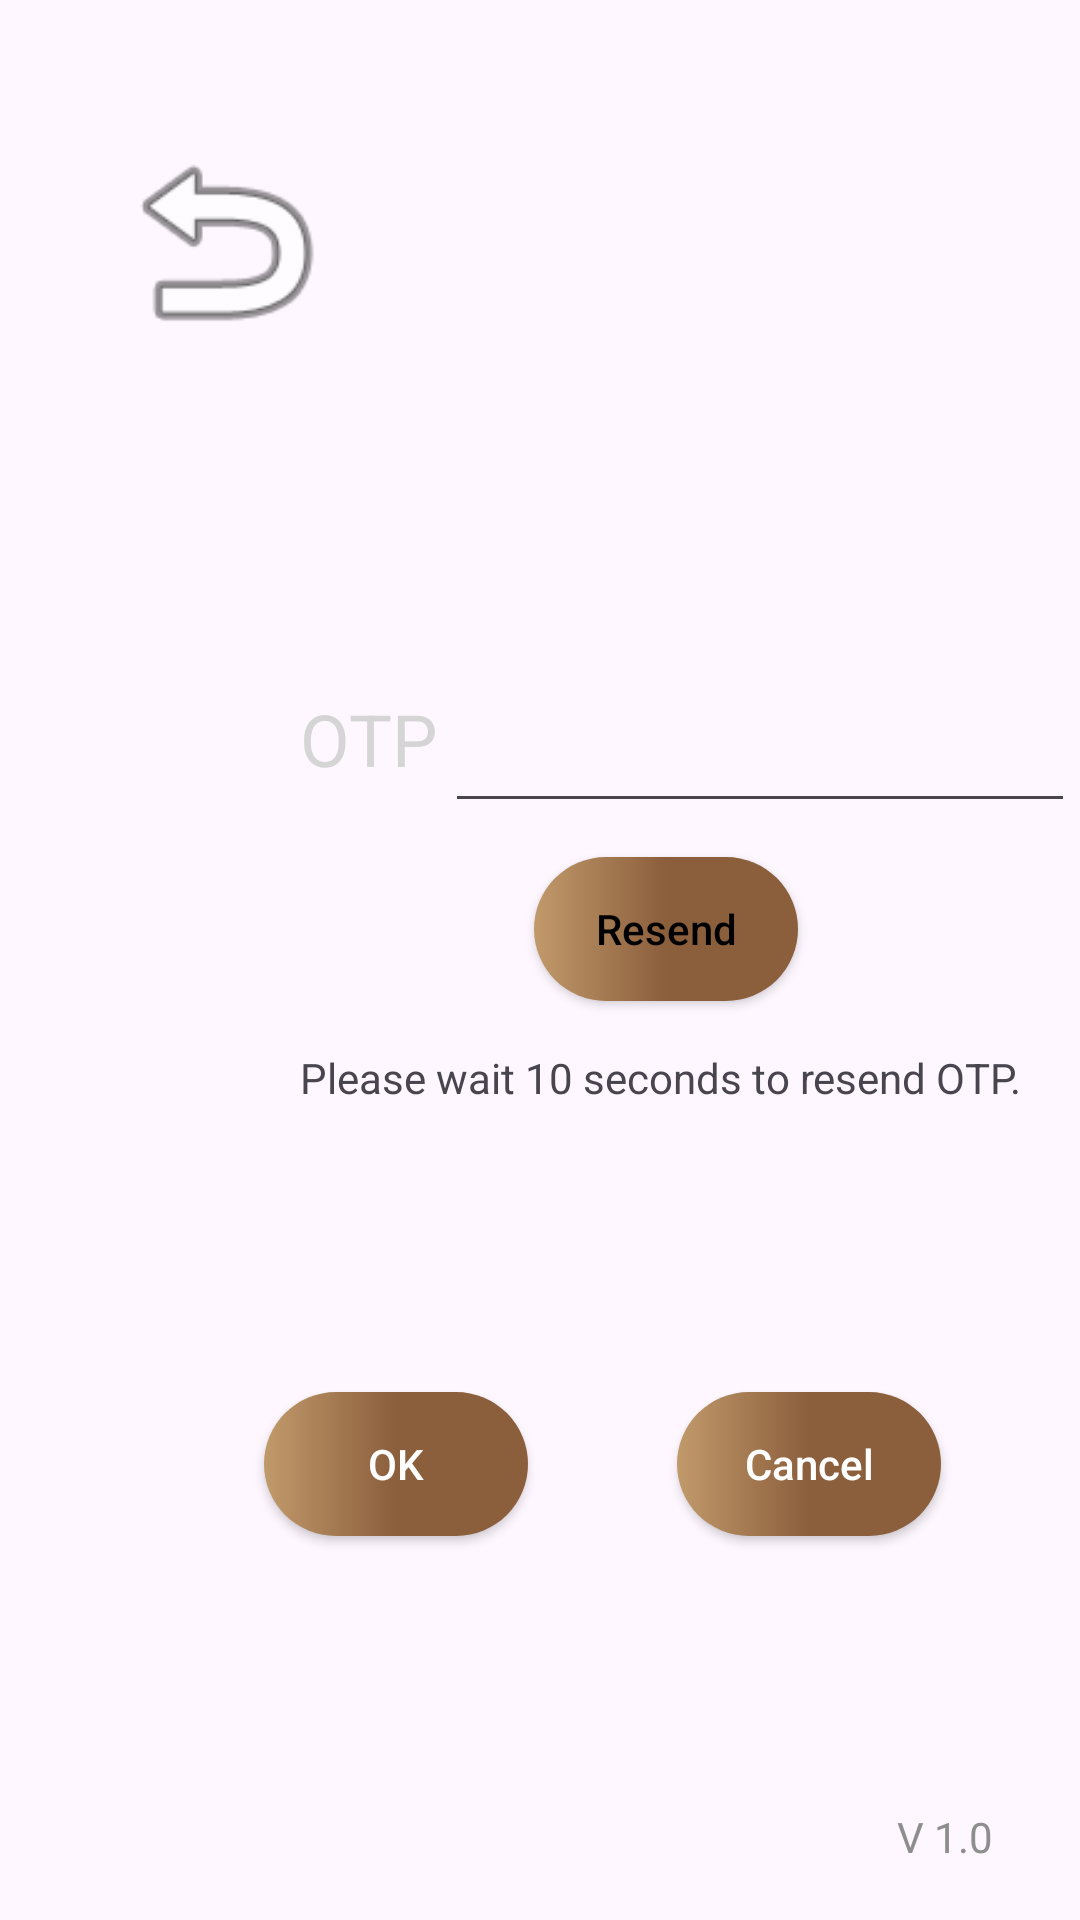

Screen size 1080 × 1920. Icon name, then its center in pixels as (x=x, y=y):
revert: (x=227, y=243)
